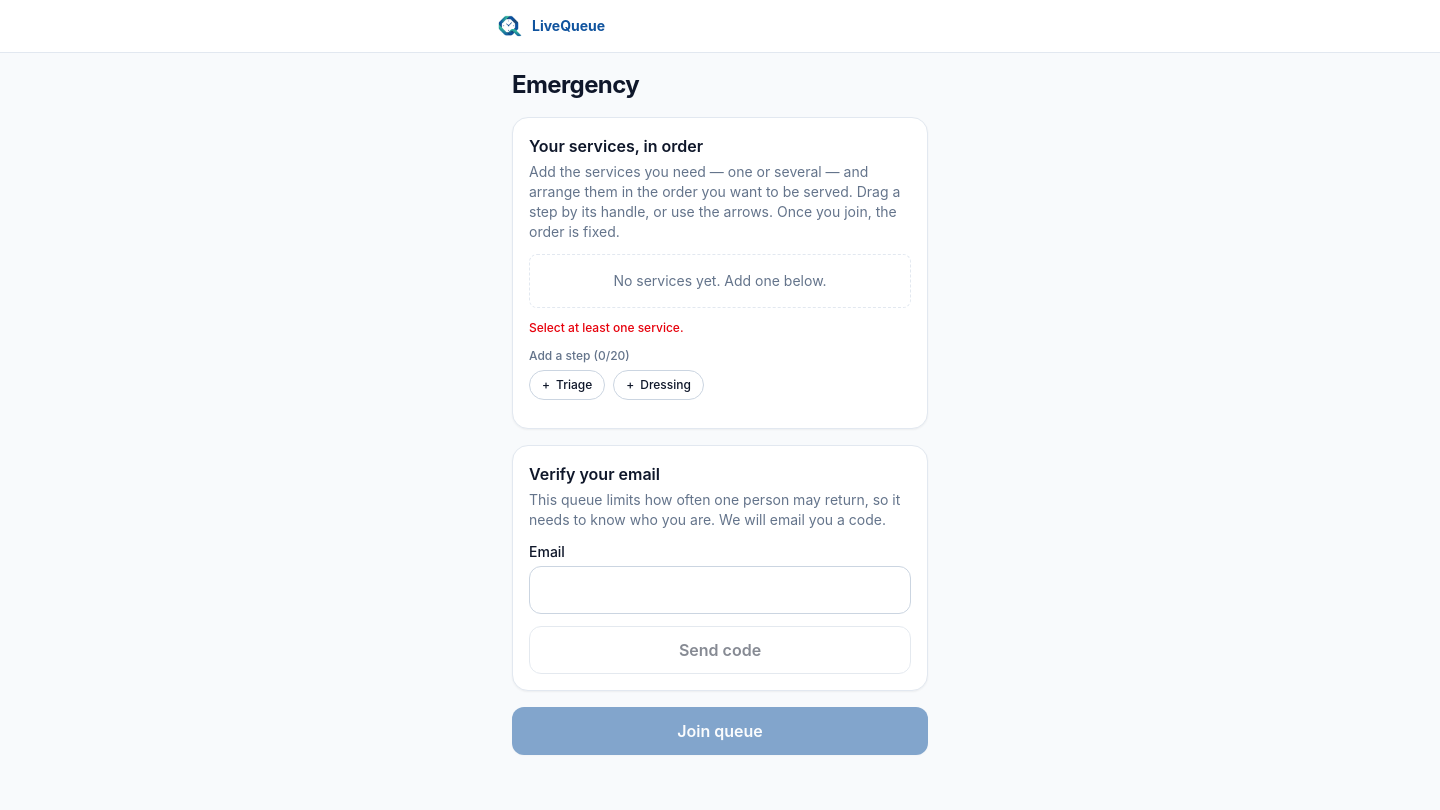
Scenario: queue → services → form → join › a verified-email queue verifies before joining and sends the proof, never the code
Click the button with aria-label "Add Triage" at (567, 385), box [529,370,605,400]
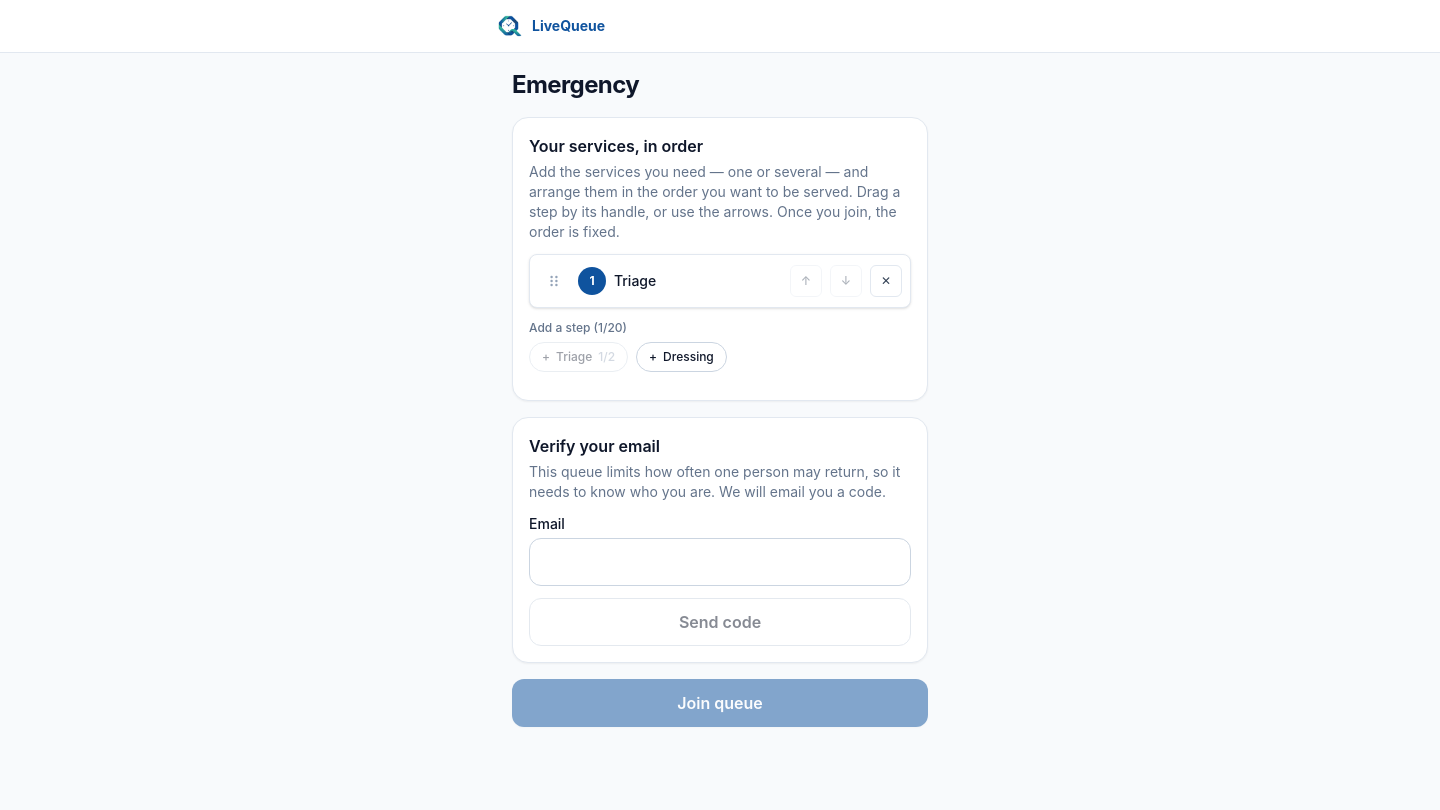
Expected: the button "Join queue" is disabled, [512,679,928,727]
Type "sami@example.com" into the field labelled "Email" at (720, 562), box [529,538,911,586]
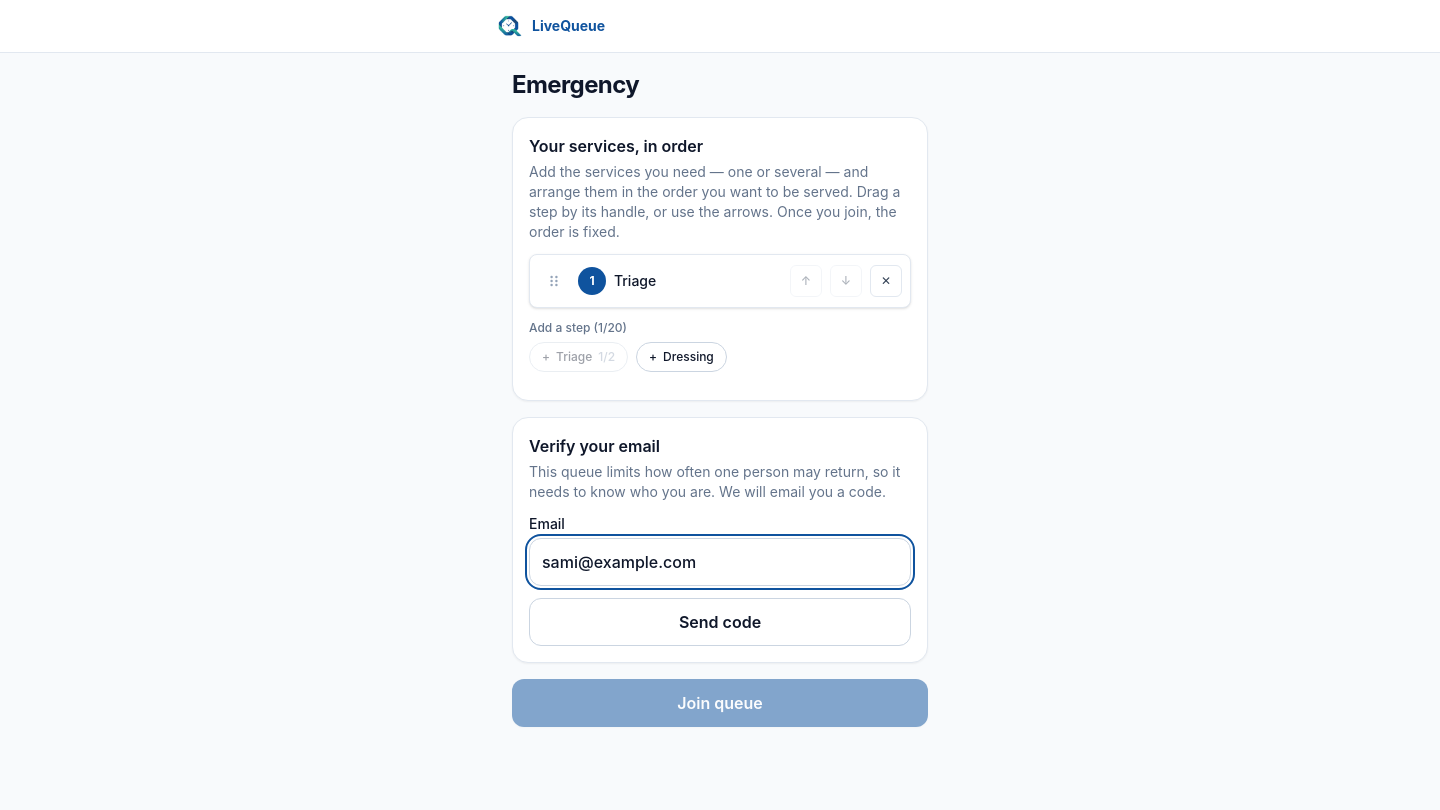
Click the button "Send code" at (720, 622), box [529,598,911,646]
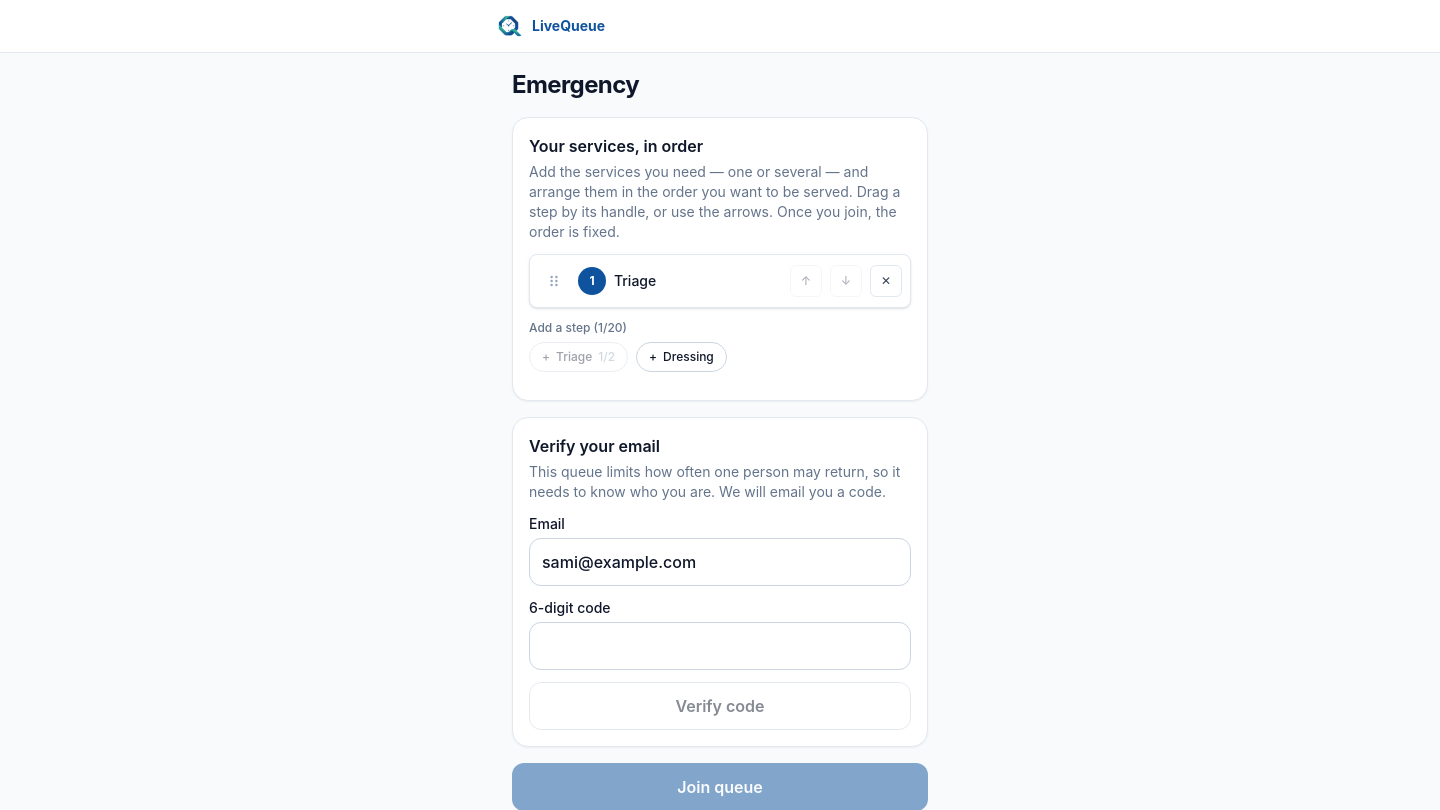
Type "123456" into the field labelled "6-digit code" at (720, 646), box [529,622,911,670]
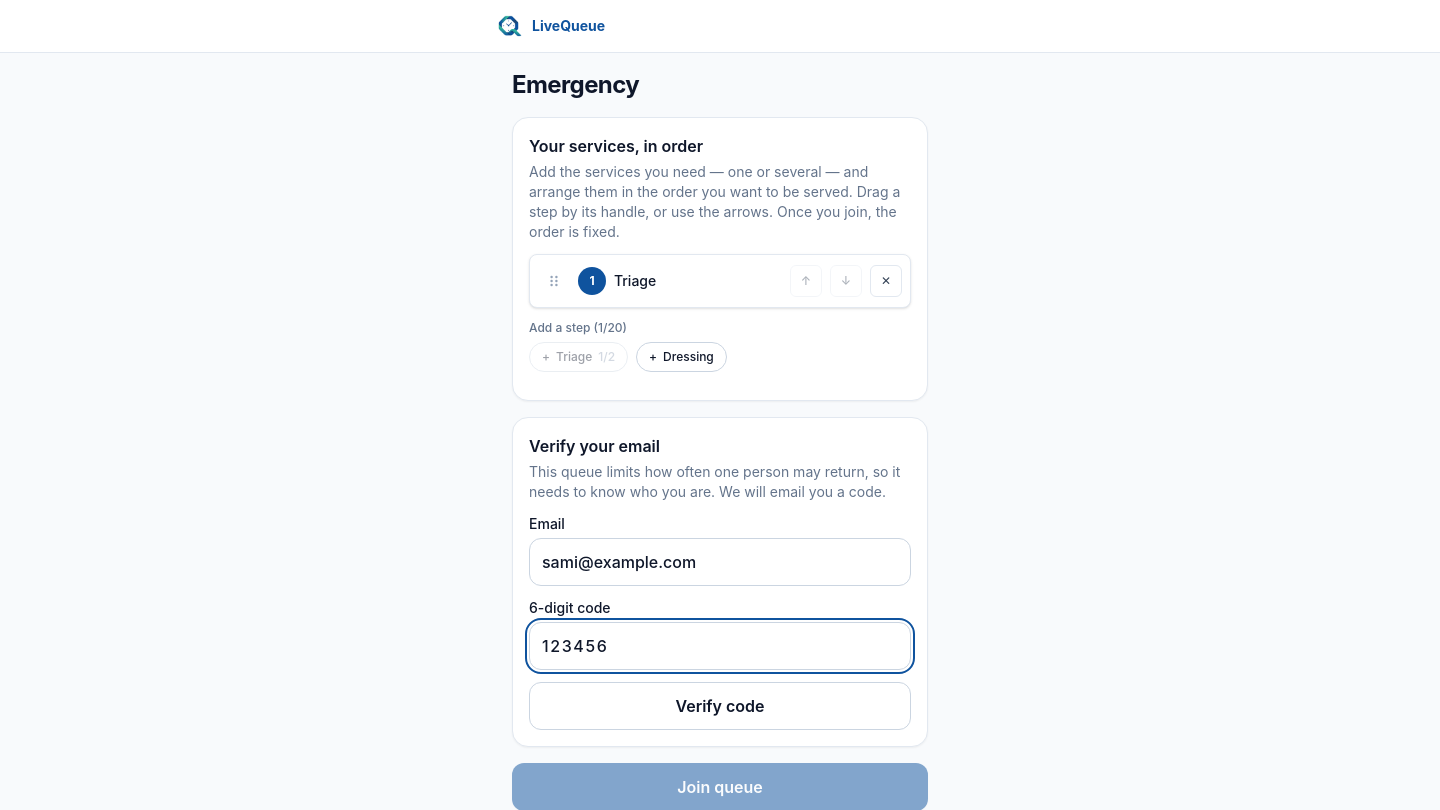
Click the button "Verify code" at (720, 706), box [529,682,911,730]
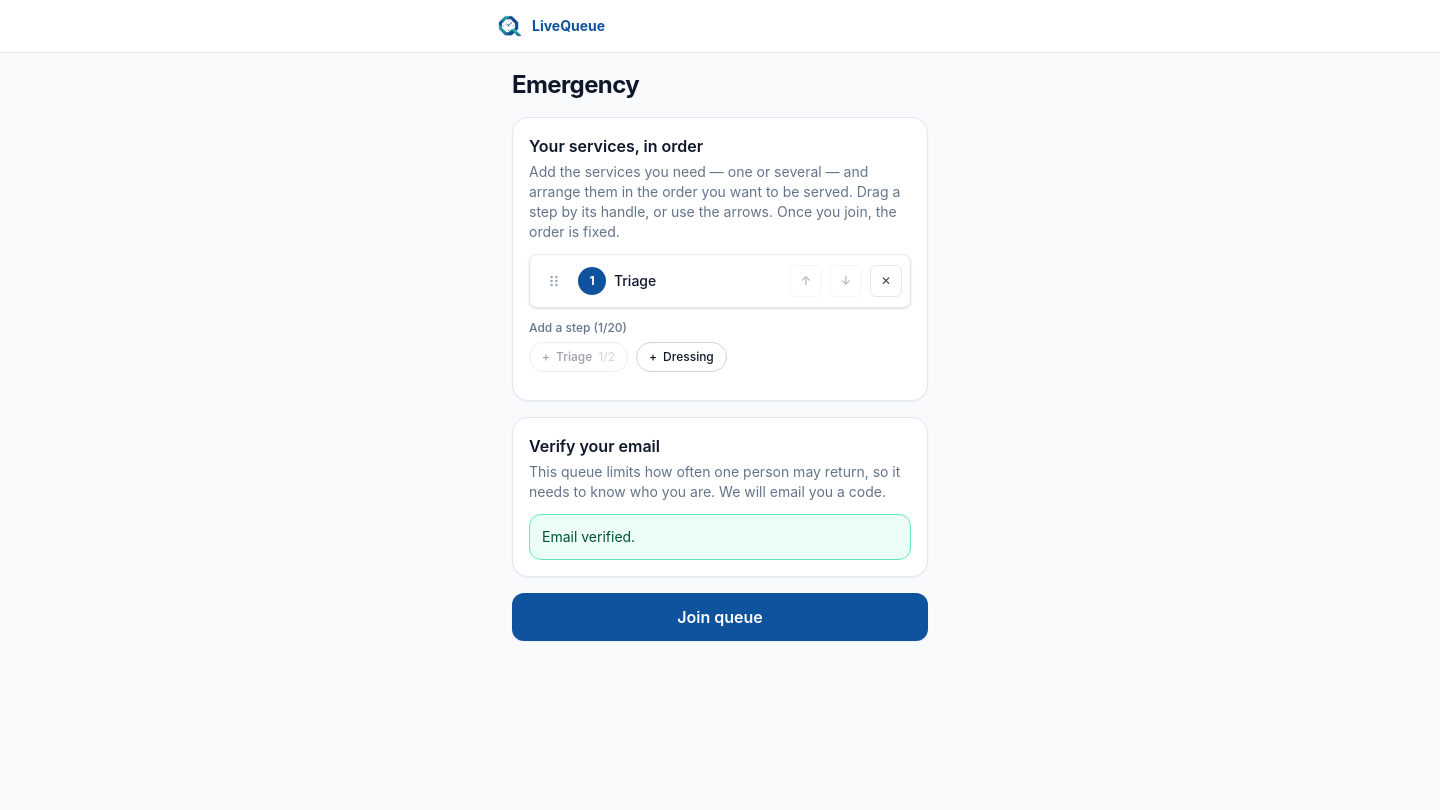
Result: the text "Email verified." is shown at [529,514,911,560]
Click the button "Join queue" at (720, 617), box [512,593,928,641]
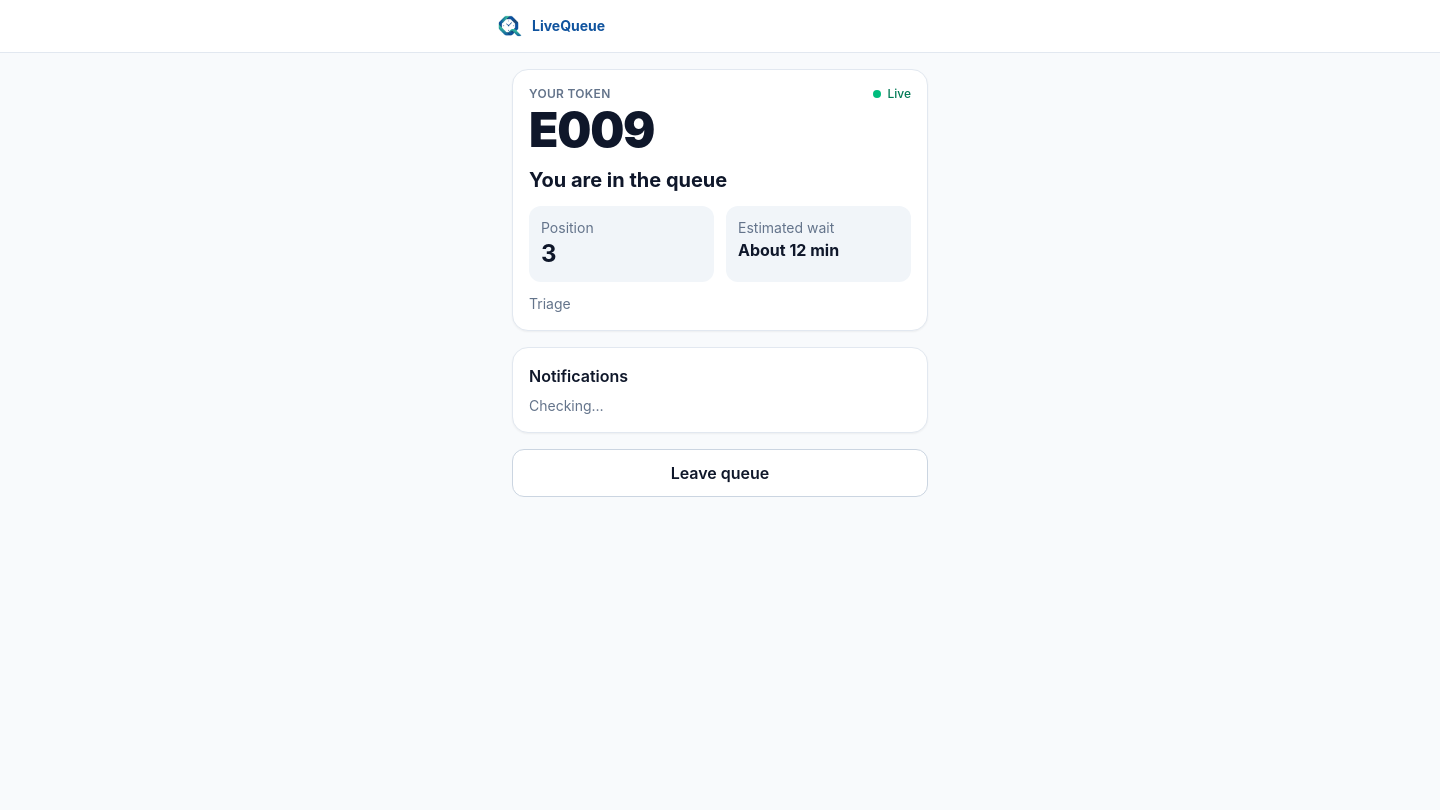
Result: the text "E009" is shown at [529,100,654,159]
